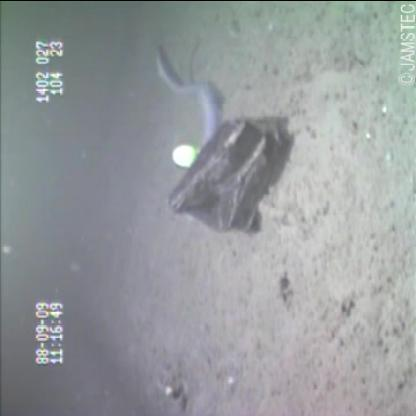Bio: (150, 37, 230, 148)
Rác: (164, 112, 290, 240)
